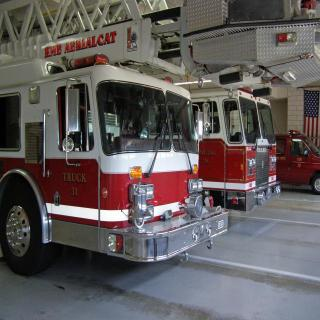Fire_truck: (0, 29, 198, 281), (186, 72, 294, 235)
